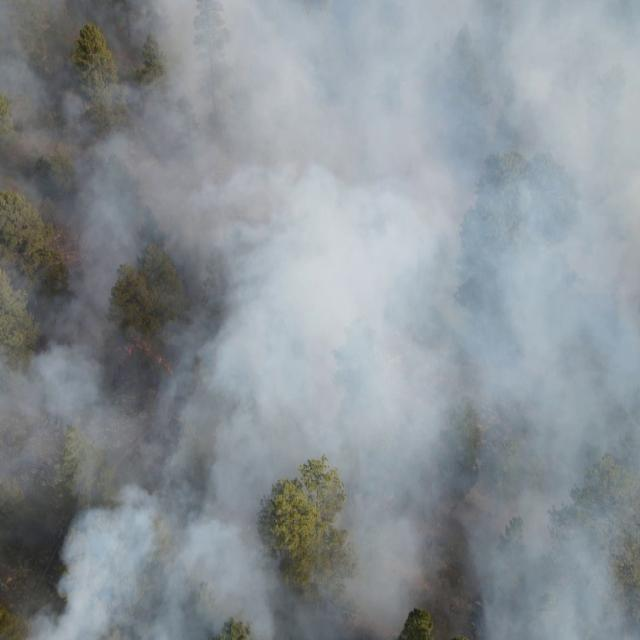fire: (114, 337, 177, 374)
smoke: (2, 2, 640, 640)
